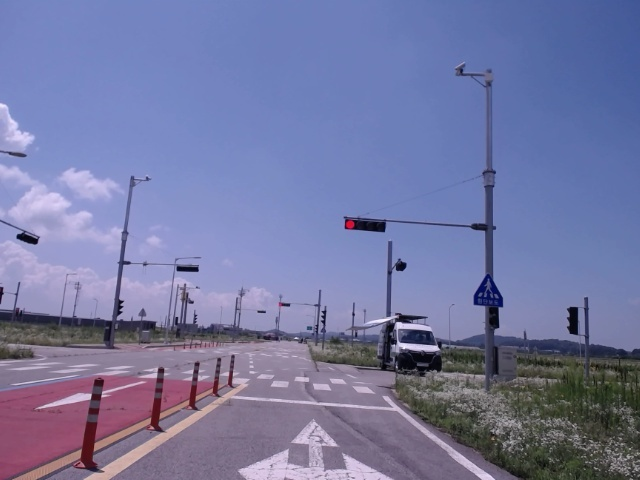red_4: (345, 219, 385, 232)
